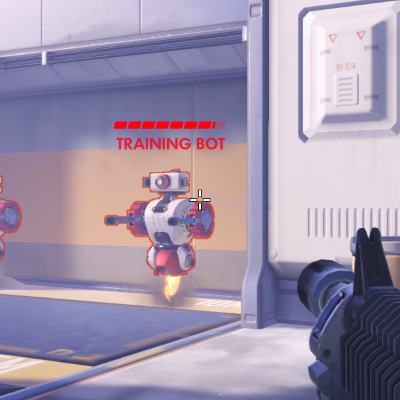hpbar: (113, 121, 226, 129)
